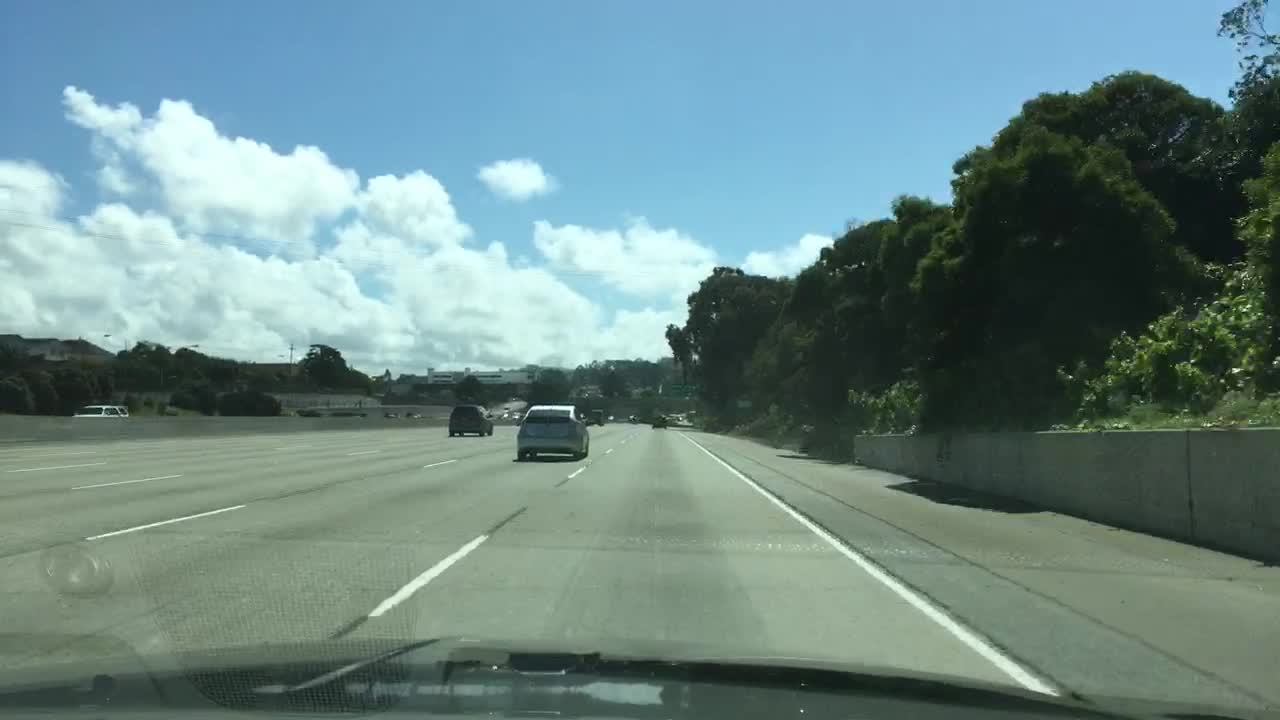car: (514, 401, 590, 462), (447, 405, 496, 435), (69, 401, 128, 420), (580, 405, 602, 425), (496, 408, 521, 425), (648, 410, 670, 427)
traffic sign: (665, 378, 698, 398)
